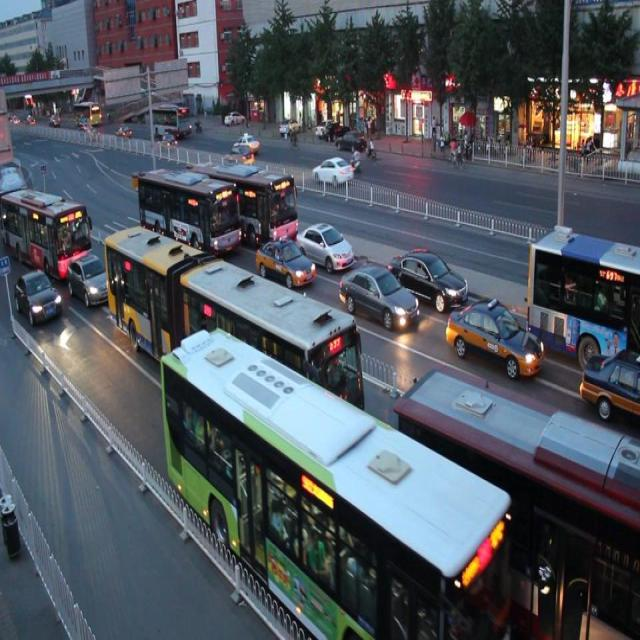car: (446, 294, 544, 382), (337, 258, 416, 331), (390, 243, 468, 309), (576, 345, 640, 412), (253, 230, 314, 289), (294, 214, 352, 273), (14, 271, 62, 326), (67, 253, 115, 306)
van: (159, 329, 511, 640), (102, 218, 366, 482), (394, 367, 640, 640), (527, 225, 640, 369), (136, 160, 240, 262), (191, 153, 298, 248), (1, 182, 90, 272)
